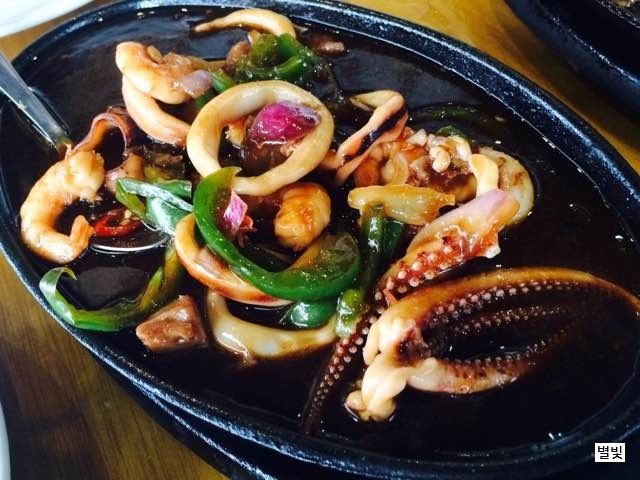chopped lettuce: (291, 251, 341, 295)
